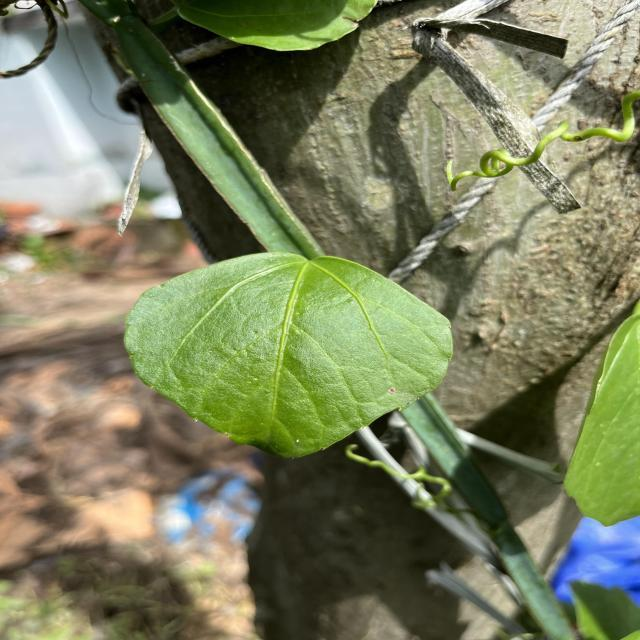Cissus quadrangularis: (120, 248, 456, 460)
